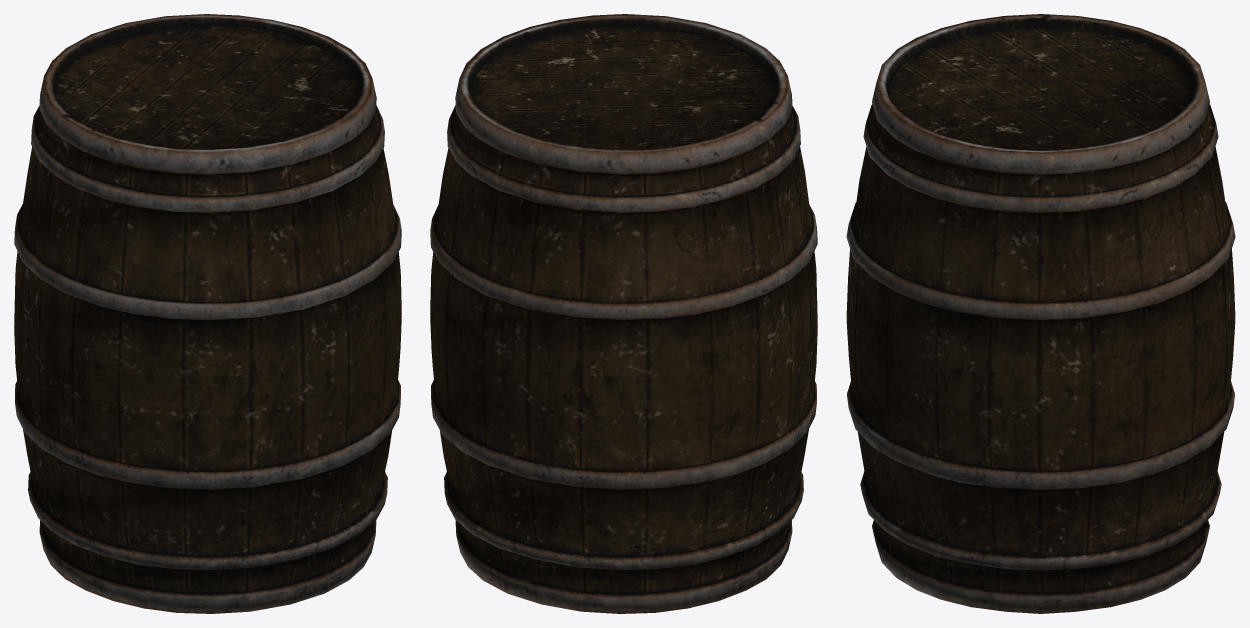
Rendered from Barrel_A_001.fbx.
The picture shows the model from 3 angles, left to right: view 1: azimuth 30°, elevation 25°; view 2: azimuth 150°, elevation 25°; view 3: azimuth 270°, elevation 25°; orthographic projection.
Parts seen in each view (by area): view 1: Barrel_A_001; view 2: Barrel_A_001; view 3: Barrel_A_001.
Boxes of the visible parts, <box> form: Barrel_A_001: <box>14,14,401,613</box>; Barrel_A_001: <box>430,14,817,613</box>; Barrel_A_001: <box>846,14,1235,613</box>.
Size of the model in its own units: 75.17 by 98.36 by 75.17.
Materials: 1 (1 with a texture image).
